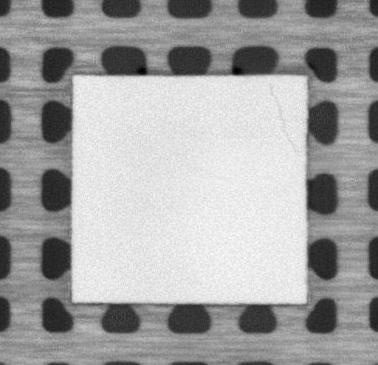DIE_CRACK: (268, 81, 297, 154)
